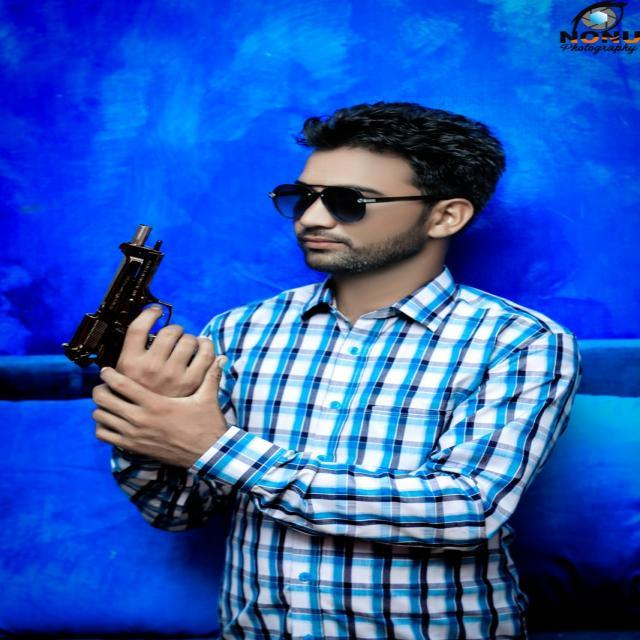gun: (46, 211, 190, 392)
